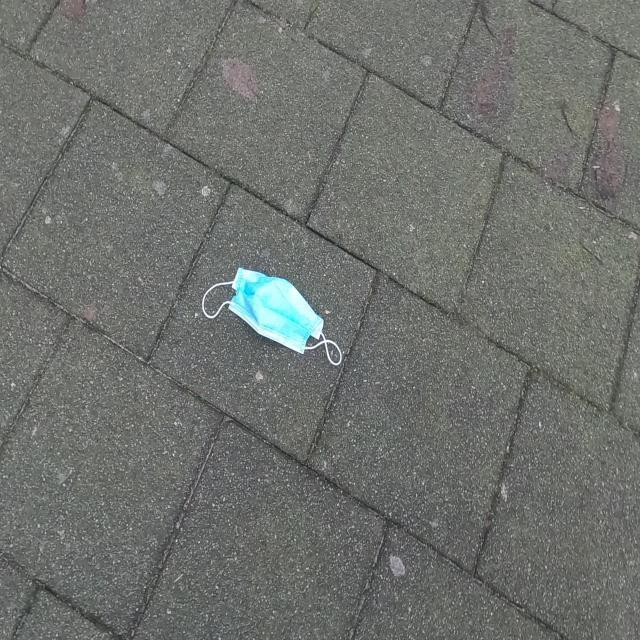Mask: (201, 264, 343, 368)
